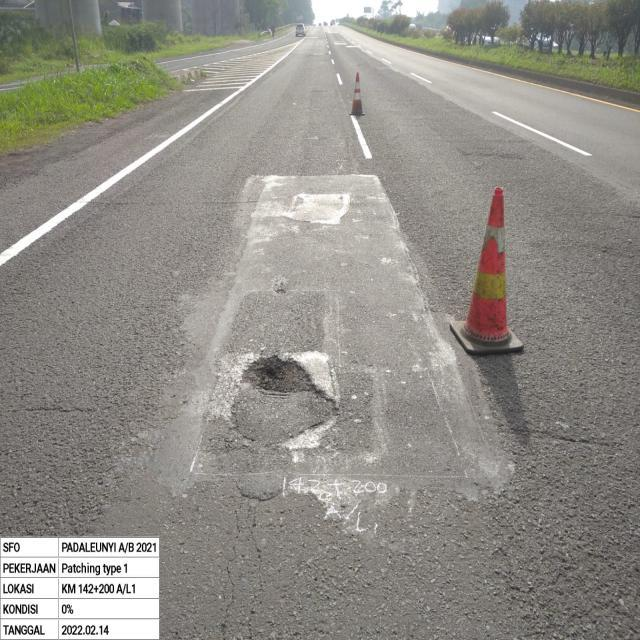Buraco: (237, 352, 317, 395)
